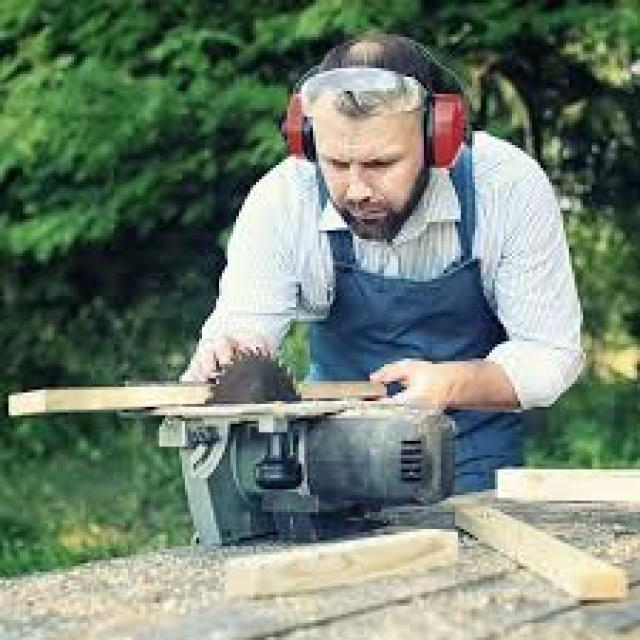Ear-protection: (421, 82, 464, 165), (278, 86, 316, 160)
glasses: (293, 62, 421, 116)
person: (155, 24, 597, 522)
